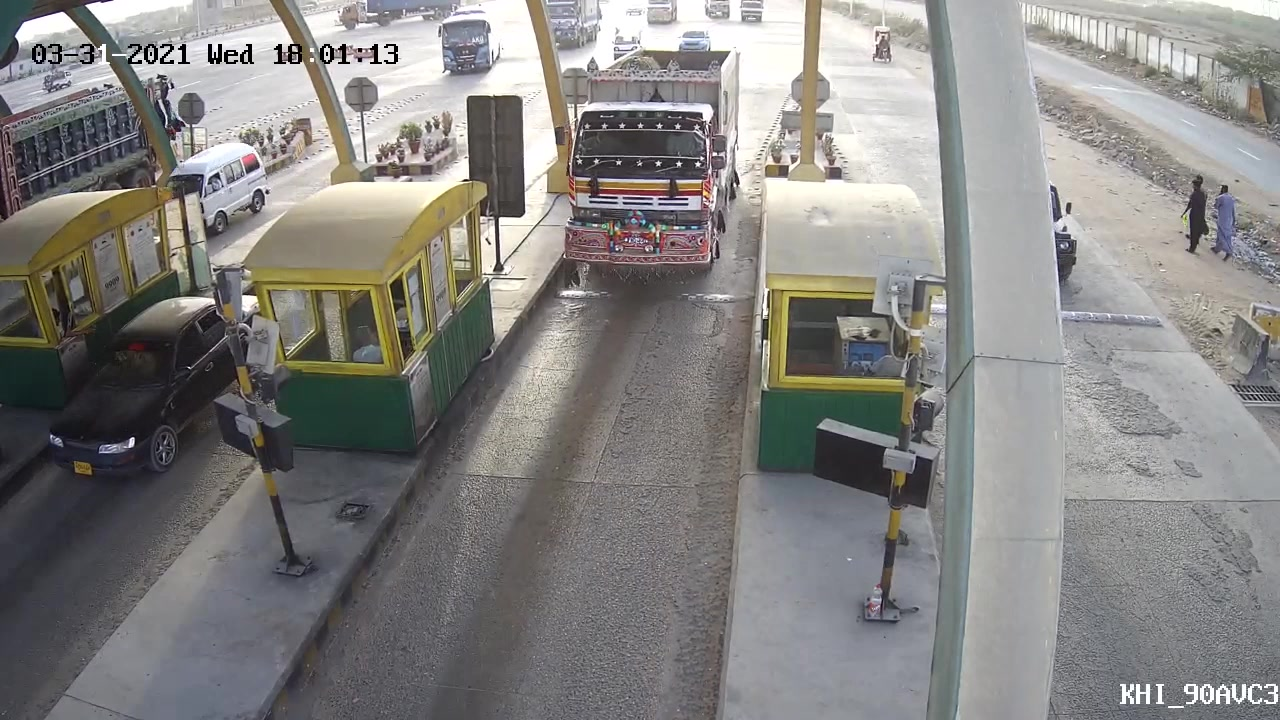F5: (547, 41, 749, 290)
